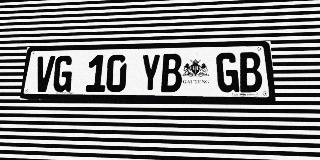0: (105, 54, 127, 92)
1: (86, 55, 107, 92)
B: (238, 52, 263, 92), (161, 53, 182, 92)
G: (216, 52, 239, 92), (52, 55, 74, 92)
V: (33, 56, 55, 92)
Y: (140, 54, 161, 92)
